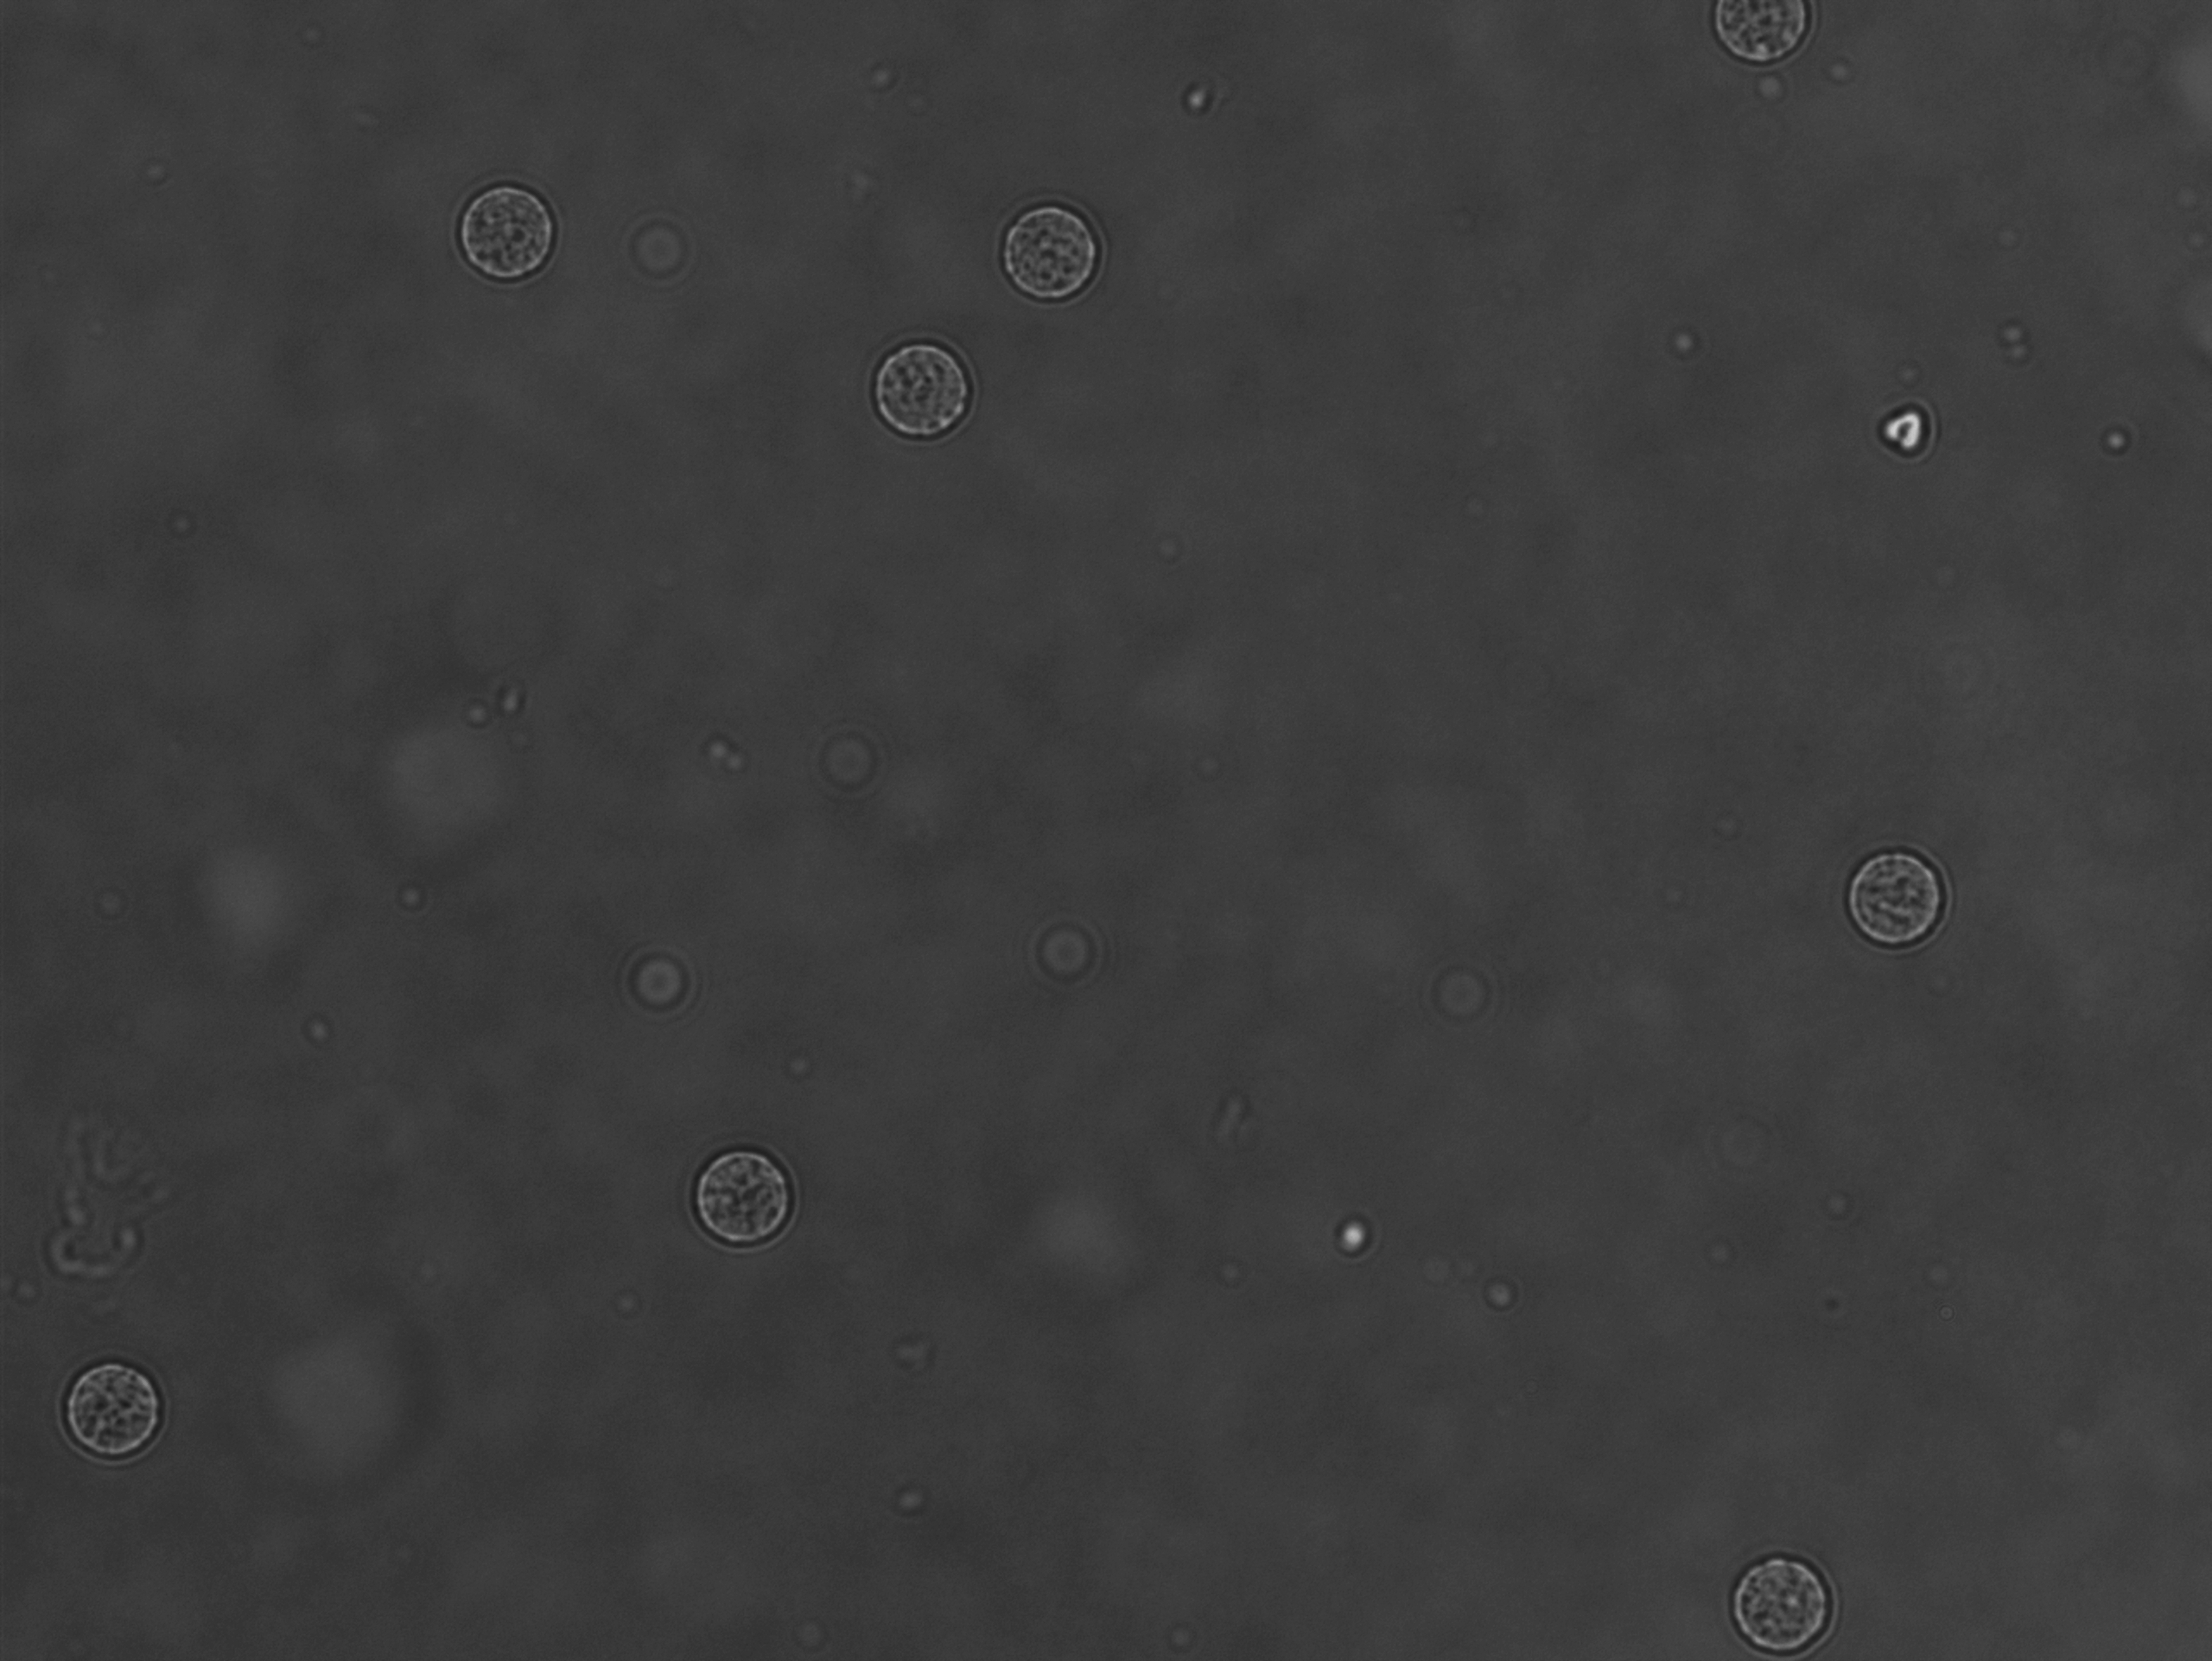depth:0: (42, 1340, 222, 1488), (973, 180, 1132, 319), (1840, 817, 1975, 977), (680, 1127, 823, 1267), (445, 157, 572, 304), (865, 325, 987, 462), (1711, 1535, 1840, 1661)
